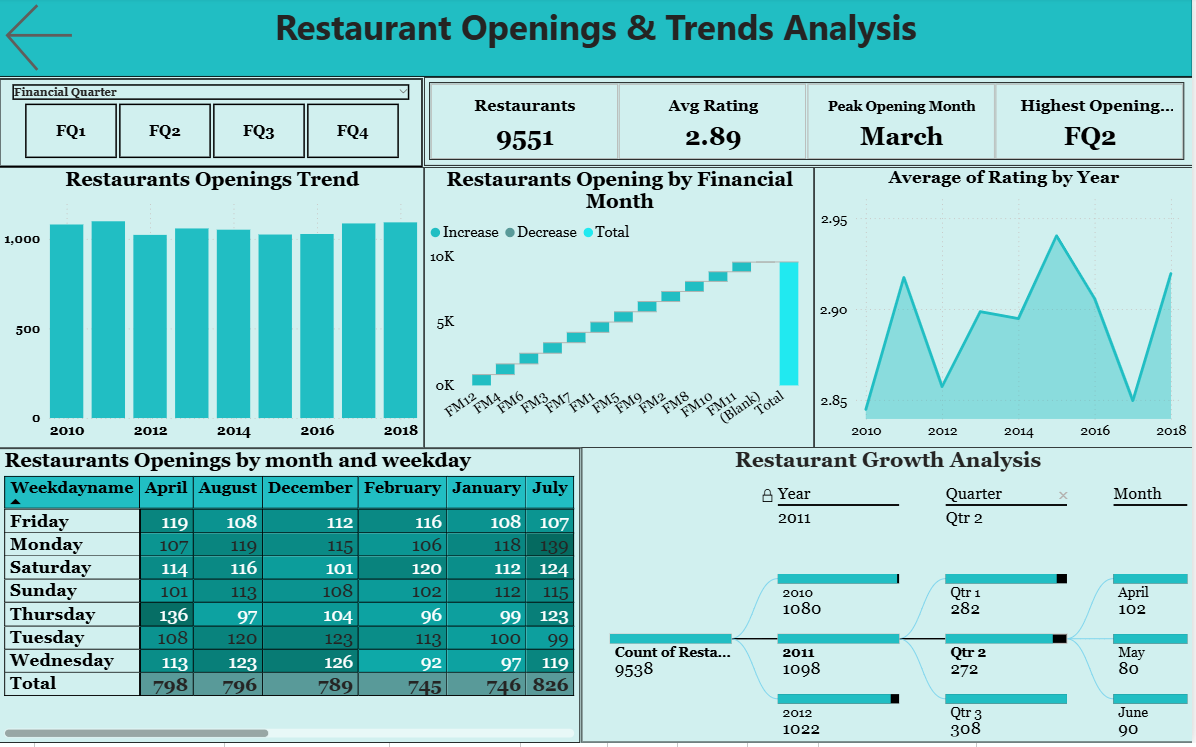

Layout of this report page (visuals, bound fields, positions):
{"tool":"powerbi","page":{"name":"Calendar Dashboard","canvas":[1280,800],"ordinal":1},"visuals":[{"type":"pivotTable","title":"Restaurants Openings by month and weekday","fields":{"Rows":["Calendar_Table.Weekdayname"],"Columns":["Calendar_Table.Monthfullname"],"Values":["CountNonNull(Restaurants.RestaurantID)"]},"box":[0,483.9,623.3,316.4],"z":0},{"type":"areaChart","fields":{"Category":["Calendar_Table.YearMonth.Variation.Date Hierarchy.Year","Calendar_Table.YearMonth.Variation.Date Hierarchy.Quarter","Calendar_Table.YearMonth.Variation.Date Hierarchy.Month","Calendar_Table.YearMonth.Variation.Date Hierarchy.Day"],"Y":["Avg(Restaurants.Rating)"]},"box":[874,182.3,406.2,301.6],"z":1000},{"type":"waterfallChart","title":"Restaurants Opening by Financial Month","fields":{"Category":["Calendar_Table.FinancialMOnth"],"Y":["CountNonNull(Restaurants.RestaurantID)"]},"box":[455.8,182.3,418.2,301.6],"z":2000},{"type":"clusteredColumnChart","title":"Restaurants Openings Trend ","fields":{"Category":["Calendar_Table.Year","Calendar_Table.Quarter","Calendar_Table.YearMonth.Variation.Date Hierarchy.Month"],"Y":["CountNonNull(Restaurants.RestaurantID)"]},"box":[0,182.3,455.8,301.6],"z":3000},{"type":"slicer","fields":{"Values":["Calendar_Table.Financial Quarter"]},"box":[0,87.1,454.4,95.2],"z":4000},{"type":"textbox","box":[0,0,1280.2,85.8],"z":5000},{"type":"cardVisual","fields":{"Data":["CountNonNull(Restaurants.RestaurantID)","Calendar_Table.avg rating","Calendar_Table.Peak Opening Month","Calendar_Table.Highest Opening Financial Quarter"]},"box":[455.8,85.8,824.4,95.2],"z":6000},{"type":"decompositionTreeVisual","title":"Restaurant Growth Analysis","fields":{"Analyze":["CountNonNull(Restaurants.RestaurantID)"],"ExplainBy":["Calendar_Table.YearMonth.Variation.Date Hierarchy.Year","Calendar_Table.YearMonth.Variation.Date Hierarchy.Quarter","Calendar_Table.YearMonth.Variation.Date Hierarchy.Month","Calendar_Table.YearMonth.Variation.Date Hierarchy.Day","Restaurants.Cuisines","Restaurants.City"]},"box":[624,483.2,656,316.8],"z":7000},{"type":"actionButton","box":[0,0,135.4,87.1],"z":8000}]}

Visuals, with their boxes in screenshot pixels (x1, y1, x2, y2), scaled from the page's 1280x800 canvas onto the 1196x747 screenshot:
"Restaurants Openings by month and weekday" pivotTable: x1=0 y1=452 x2=582 y2=746
areaChart - Calendar_Table.YearMonth.Variation.Date Hierarchy.Year x Calendar_Table.YearMonth.Variation.Date Hierarchy.Quarter: x1=817 y1=170 x2=1195 y2=452
"Restaurants Opening by Financial Month" waterfallChart: x1=426 y1=170 x2=817 y2=452
"Restaurants Openings Trend " clusteredColumnChart: x1=0 y1=170 x2=426 y2=452
slicer - Calendar_Table.Financial Quarter: x1=0 y1=81 x2=425 y2=170
textbox: x1=0 y1=0 x2=1195 y2=80
cardVisual - CountNonNull(Restaurants.RestaurantID) x Calendar_Table.avg rating: x1=426 y1=80 x2=1195 y2=169
"Restaurant Growth Analysis" decompositionTreeVisual: x1=583 y1=451 x2=1195 y2=746
actionButton: x1=0 y1=0 x2=127 y2=81
